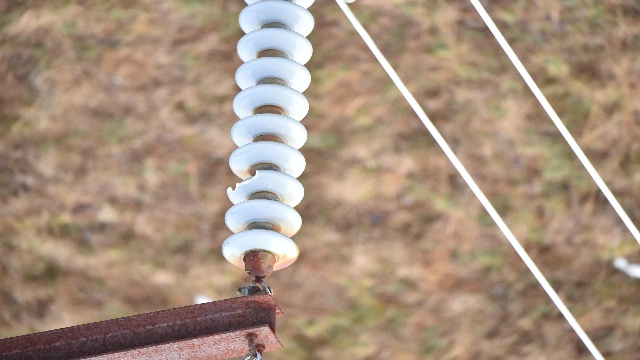broken_local: (226, 166, 261, 196)
insulator_unspecified: (219, 0, 315, 272)
